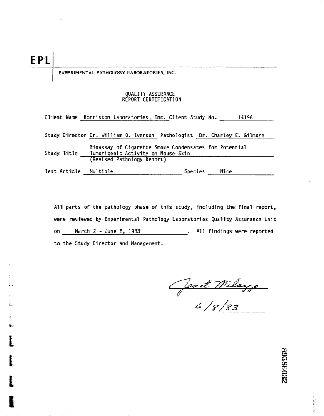textline: (79, 150, 274, 158), (167, 302, 267, 314), (168, 279, 268, 290), (61, 228, 188, 236), (79, 113, 170, 122), (82, 168, 181, 176), (195, 130, 274, 140), (88, 131, 158, 140), (219, 113, 273, 122), (206, 169, 275, 176)
